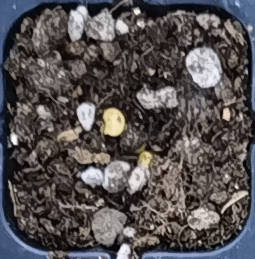pepper seed: (56, 64, 215, 237), (38, 39, 164, 175)
